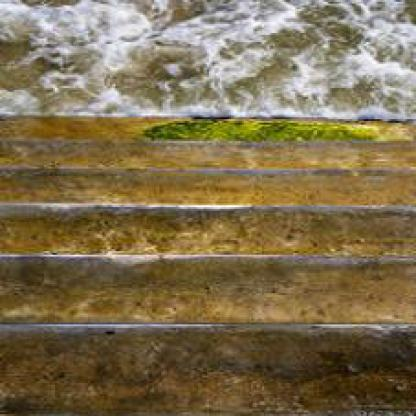stair_up: (1, 104, 414, 338)
